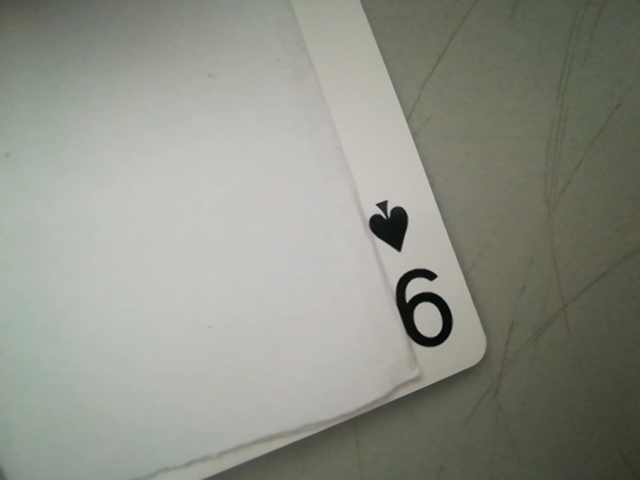ht 9: (364, 187, 475, 365)
